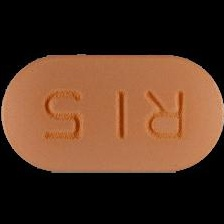53808-1022: (0, 0, 224, 224)
